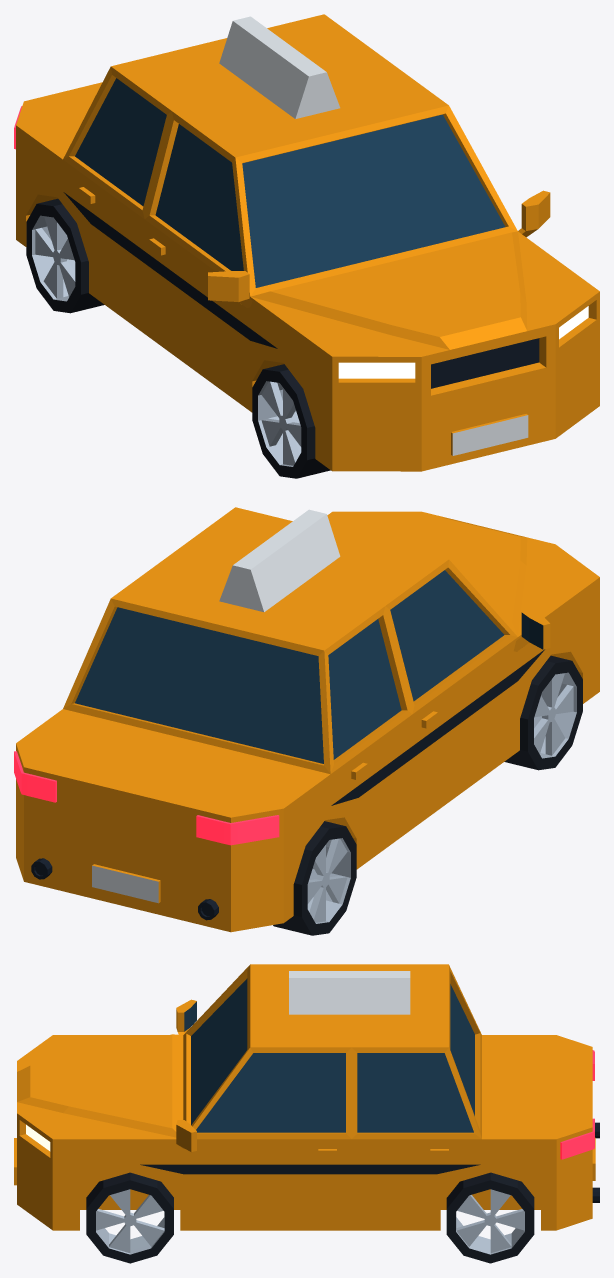
File: taxi.glb
3 renders of one model, top to bottom at view 1: azimuth 30°, elevation 25°; view 2: azimuth 150°, elevation 25°; view 3: azimuth 270°, elevation 25°, orthographic. The views are drawn at different scales.
Visible parts, largest first — view 1: Taxi, Taxi_wheel_front_right, Taxi_wheel_rear_right; view 2: Taxi, Taxi_wheel_rear_right, Taxi_wheel_front_right; view 3: Taxi, Taxi_wheel_rear_left, Taxi_wheel_front_left.
Boxes of the visible parts, <box> form: Taxi: <box>14,14,599,471</box>; Taxi_wheel_front_right: <box>252,364,330,478</box>; Taxi_wheel_rear_right: <box>26,198,104,313</box>; Taxi: <box>14,507,599,932</box>; Taxi_wheel_rear_right: <box>273,821,356,935</box>; Taxi_wheel_front_right: <box>504,655,582,770</box>; Taxi: <box>14,964,599,1230</box>; Taxi_wheel_rear_left: <box>446,1172,534,1263</box>; Taxi_wheel_front_left: <box>86,1172,173,1263</box>.
Size of the model in its own units: 1.53 by 1.26 by 2.85.
